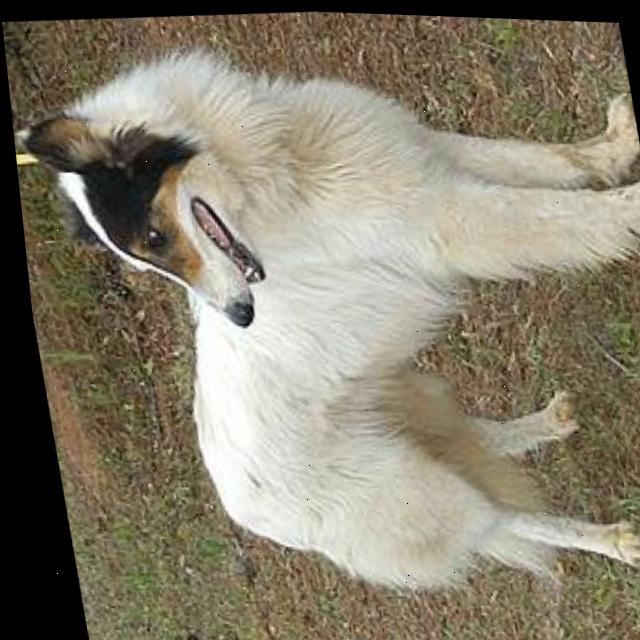dogs: (0, 0, 640, 628)
